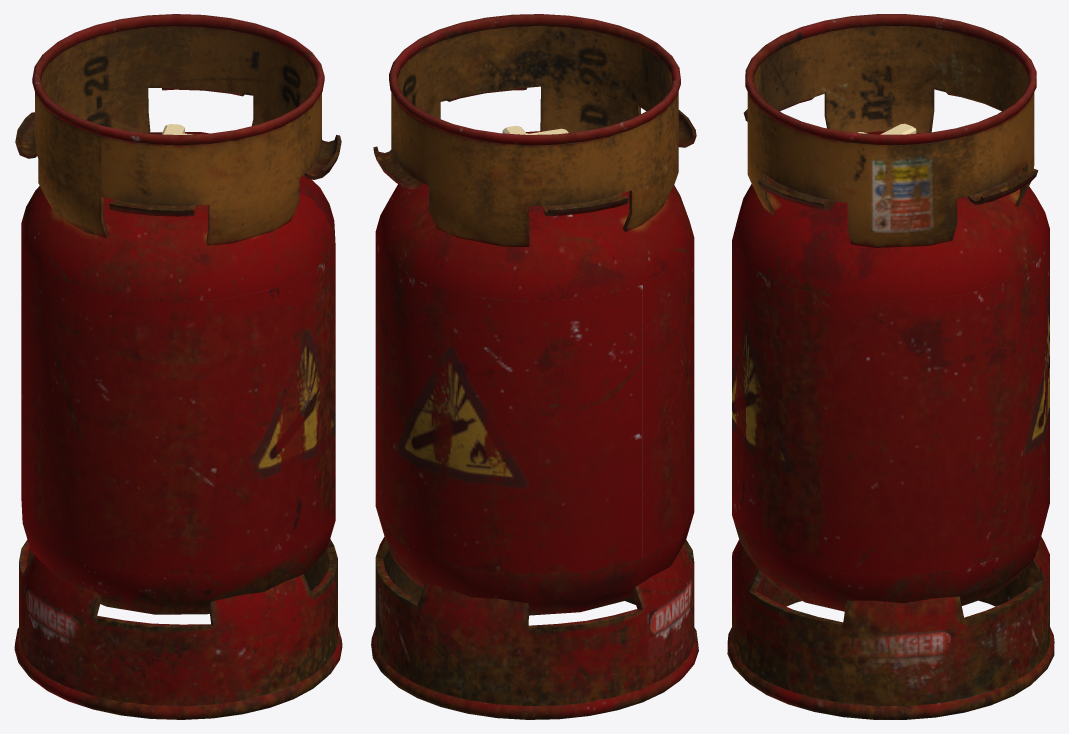
File: Prop_GasTube_Red.fbx
3 views of the same model, side by side, from view 1: azimuth 30°, elevation 25°; view 2: azimuth 150°, elevation 25°; view 3: azimuth 270°, elevation 25° (orthographic).
Visible parts, largest first — view 1: Prop_GasTube_Red; view 2: Prop_GasTube_Red; view 3: Prop_GasTube_Red.
Part boxes in pixels (x1=…): Prop_GasTube_Red: x1=14, y1=14, x2=342, y2=719; Prop_GasTube_Red: x1=371, y1=14, x2=698, y2=719; Prop_GasTube_Red: x1=727, y1=14, x2=1054, y2=719.
Bounding box in the file's own units: 20.63 × 40.25 × 20.63.
